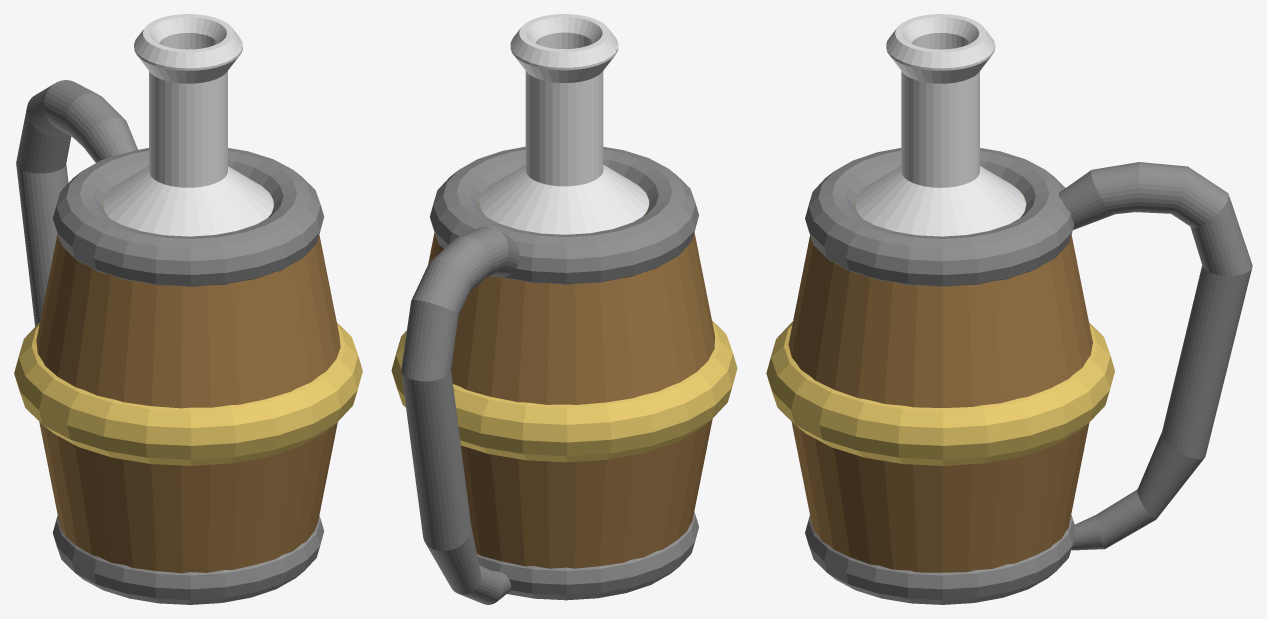
The model's file is Winebottle.fbx.
3 views of the same model, side by side, from view 1: azimuth 30°, elevation 25°; view 2: azimuth 150°, elevation 25°; view 3: azimuth 270°, elevation 25° (orthographic).
Parts seen in each view (by area): view 1: Torus; view 2: Torus; view 3: Torus.
Boxes of the visible parts, <box> form: Torus: <box>14,14,362,604</box>; Torus: <box>391,14,737,604</box>; Torus: <box>766,14,1252,604</box>.
Bounding box in the file's own units: 41.04 × 67.94 × 57.21.
